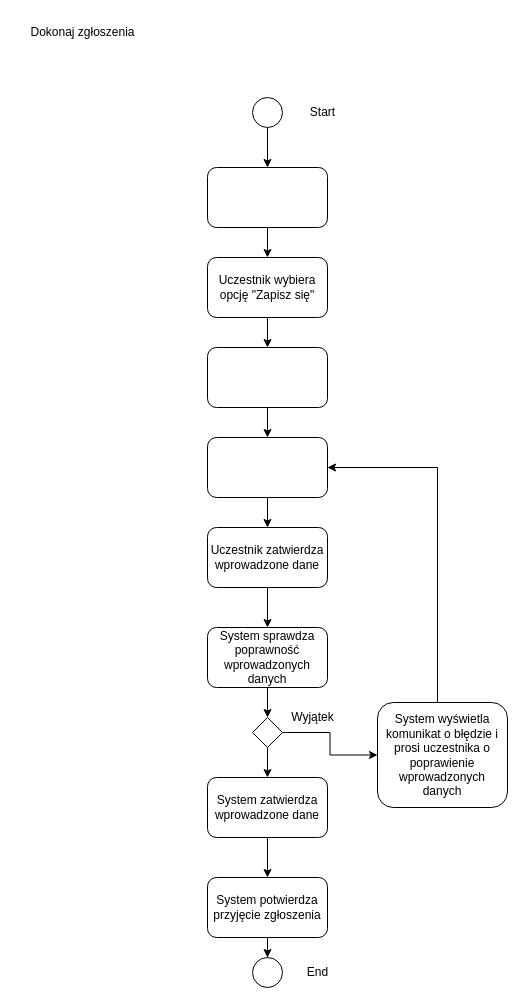
Image size: 525x1005. Some labels were removed from this diagram. Each missing label, with the centre of its shape:
System wyświetla formularz zgłoszenia: the point at 267,377
System wyświetla okno z wybranym turniejem eliminacyjnym: the point at 267,197
Uczestnik podaje niezbędne dane: the point at 267,467
